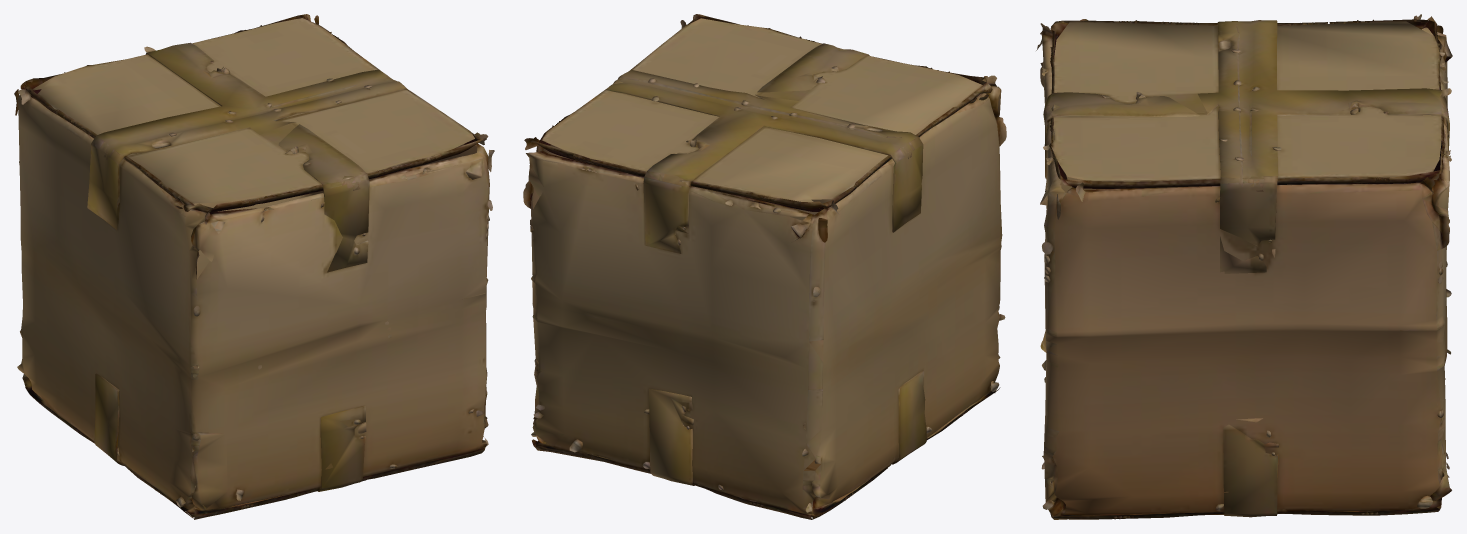
Rendered from prop_box_cardboard.glb.
The picture shows the model from 3 angles, left to right: view 1: azimuth 30°, elevation 25°; view 2: azimuth 150°, elevation 25°; view 3: azimuth 270°, elevation 25°; orthographic projection. The views are drawn at different scales.
Visible parts, largest first — view 1: tripo_node_b4586206-a44a-4601-a8b3-1c861b75ad9c; view 2: tripo_node_b4586206-a44a-4601-a8b3-1c861b75ad9c; view 3: tripo_node_b4586206-a44a-4601-a8b3-1c861b75ad9c.
Part boxes in pixels (bbox=[...]): tripo_node_b4586206-a44a-4601-a8b3-1c861b75ad9c: bbox=[14, 14, 494, 519]; tripo_node_b4586206-a44a-4601-a8b3-1c861b75ad9c: bbox=[523, 14, 1006, 519]; tripo_node_b4586206-a44a-4601-a8b3-1c861b75ad9c: bbox=[1036, 14, 1452, 519].
Size of the model in its own units: 0.4795 by 0.4651 by 0.5.
Materials: 1 (1 with a texture image).
